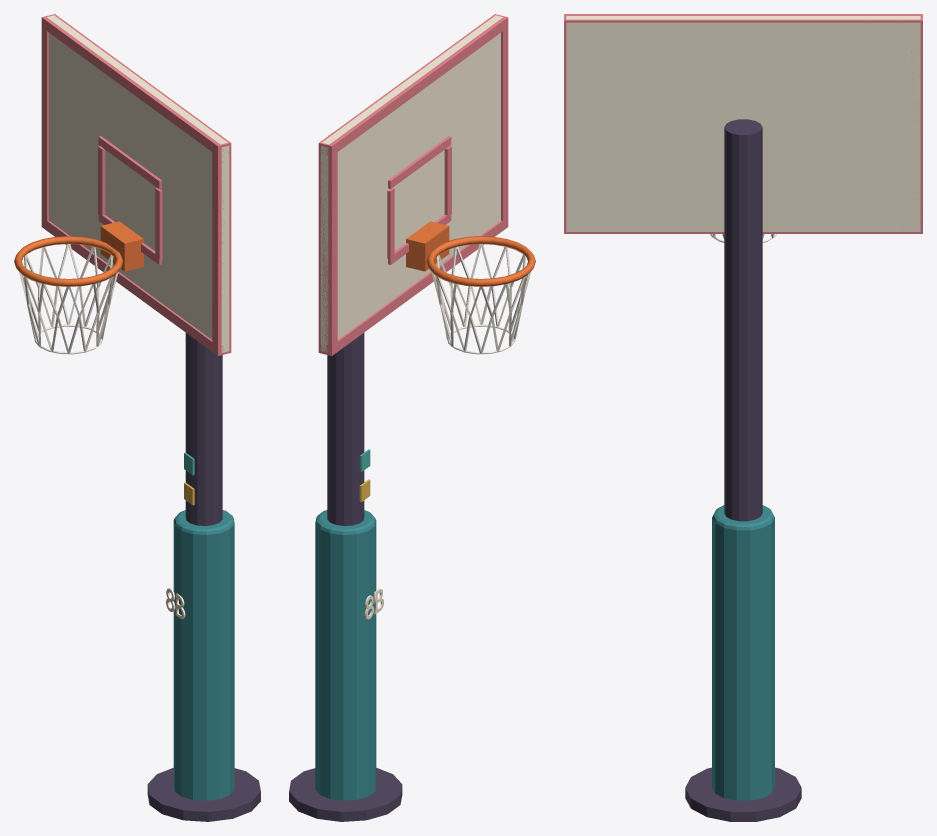
Rendered from basket-hoop.glb.
3 views of the same model, side by side, from view 1: azimuth 30°, elevation 25°; view 2: azimuth 150°, elevation 25°; view 3: azimuth 270°, elevation 25° (orthographic).
Visible parts, largest first — view 1: Hoop_board, Hoop_pad, Hoop_frame_red, Hoop_post, Hoop_net, Hoop_rim; view 2: Hoop_board, Hoop_pad, Hoop_frame_red, Hoop_post, Hoop_net, Hoop_rim; view 3: Hoop_board, Hoop_post, Hoop_pad, Hoop_frame_red.
Boxes of the visible parts, box(x1,y1,x2,y2) form: Hoop_board: box(47, 15, 229, 619); Hoop_pad: box(173, 510, 234, 800); Hoop_frame_red: box(41, 14, 231, 355); Hoop_post: box(147, 135, 260, 821); Hoop_net: box(19, 244, 118, 354); Hoop_rim: box(14, 221, 143, 286); Hoop_board: box(320, 15, 502, 619); Hoop_pad: box(315, 510, 376, 800); Hoop_frame_red: box(318, 14, 508, 355); Hoop_post: box(289, 135, 402, 821); Hoop_net: box(431, 244, 530, 354); Hoop_rim: box(406, 221, 535, 286); Hoop_board: box(566, 16, 920, 231); Hoop_post: box(685, 119, 801, 821); Hoop_pad: box(712, 505, 774, 800); Hoop_frame_red: box(564, 14, 922, 233).
Size of the model in its own units: 1.21 by 3.68 by 1.6.
